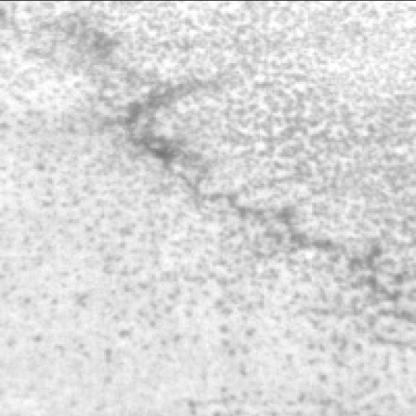pitted_surface: (6, 148, 406, 366)
